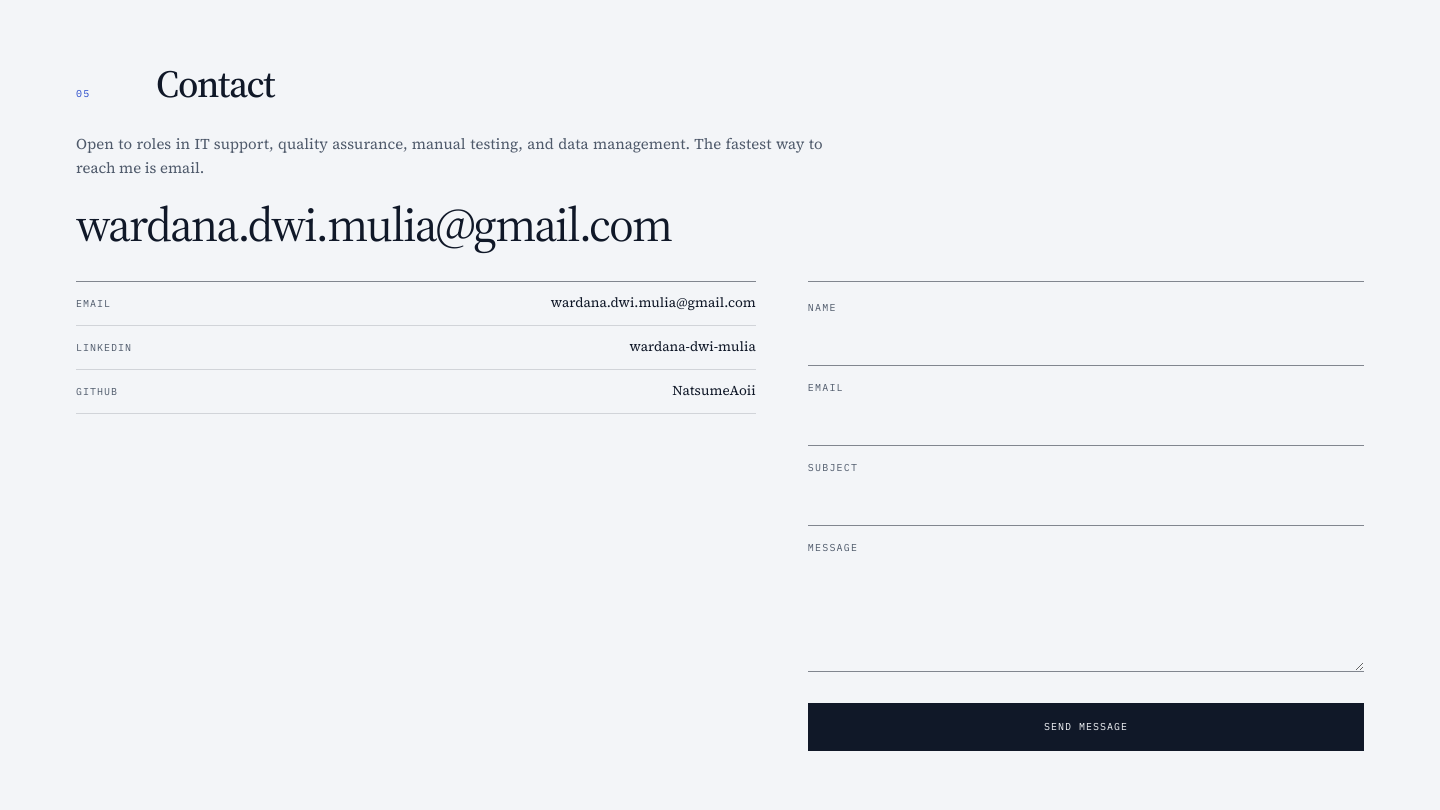
Test case: contact form › sends the draft through a mailto link on valid submit
Type "Test User" into the field labelled "Name" at (1086, 344), box [808,322,1364,366]
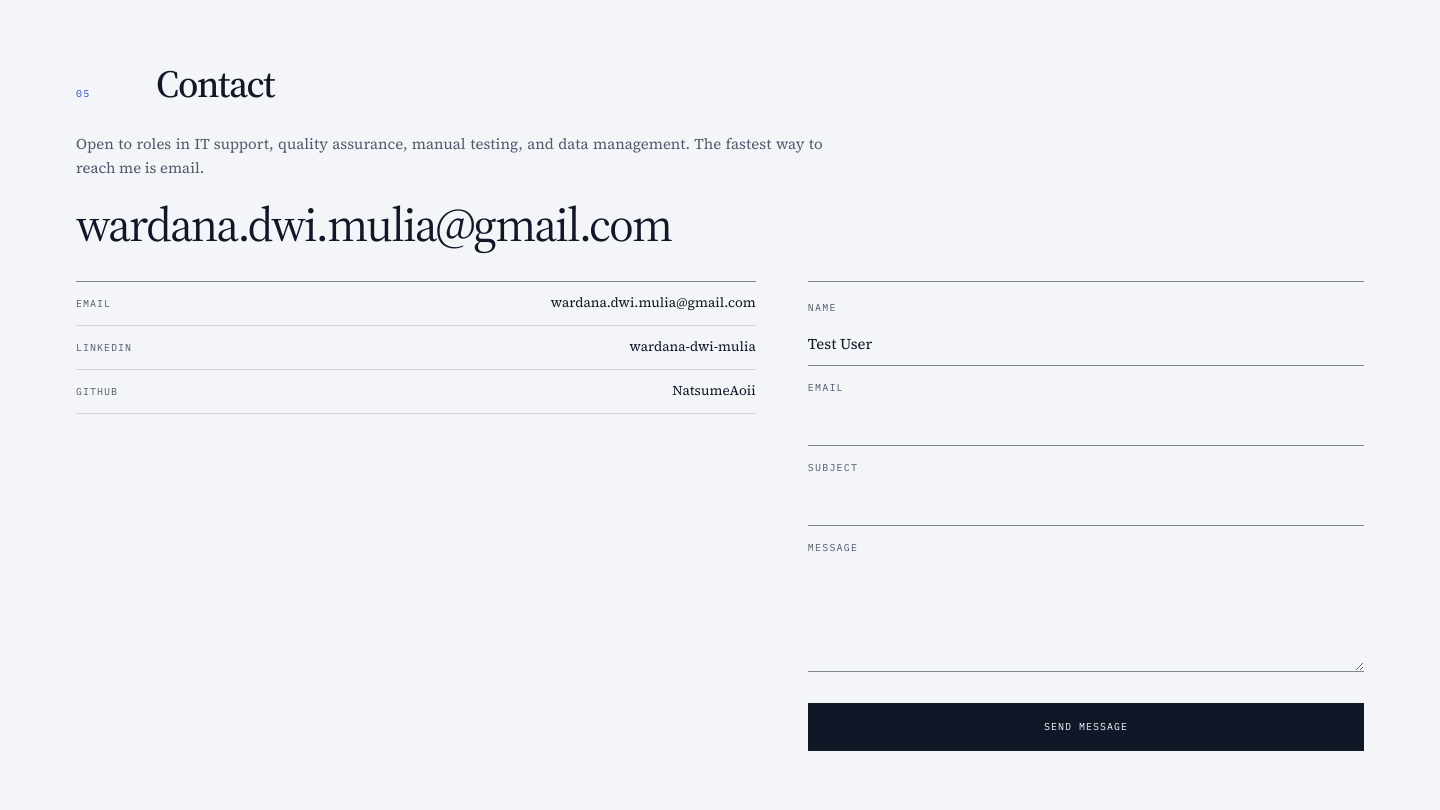
Type "test@example.com" into the field labelled "Email" at (1086, 424), box [808,402,1364,446]
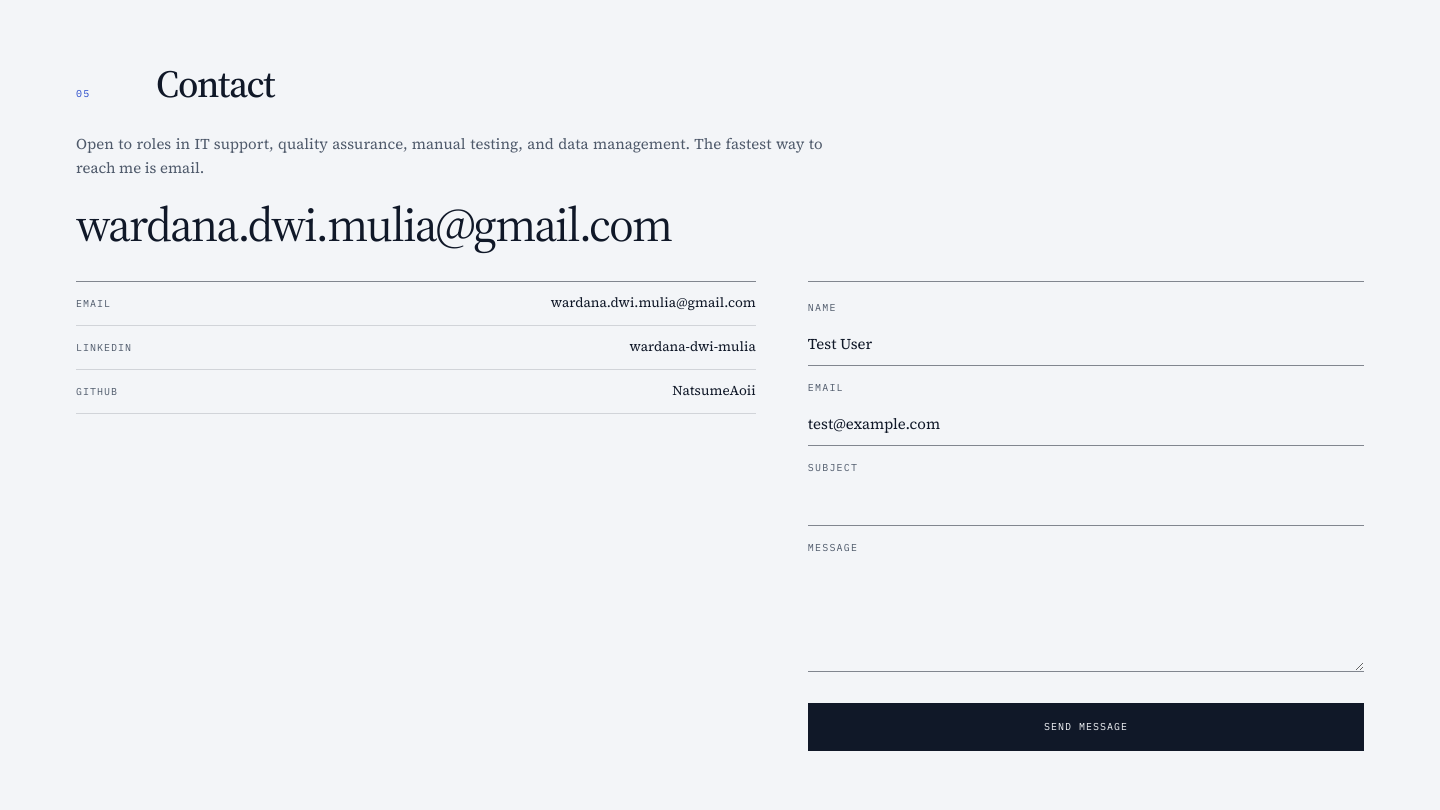
Type "Hello" into the field labelled "Subject" at (1086, 504), box [808,482,1364,526]
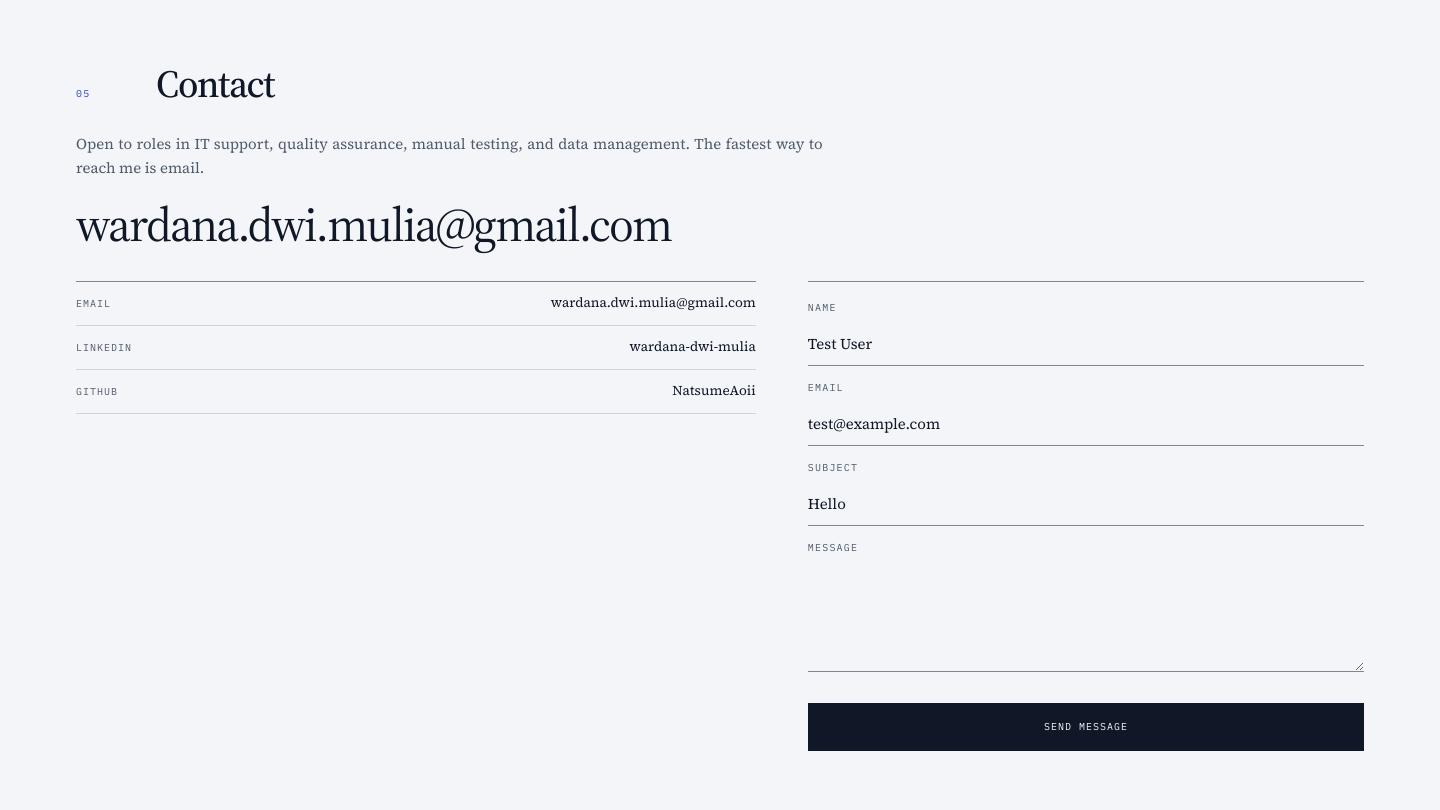
Type "This is a test message with enough length." into the text box labelled "Message" at (1086, 617), box [808,562,1364,672]
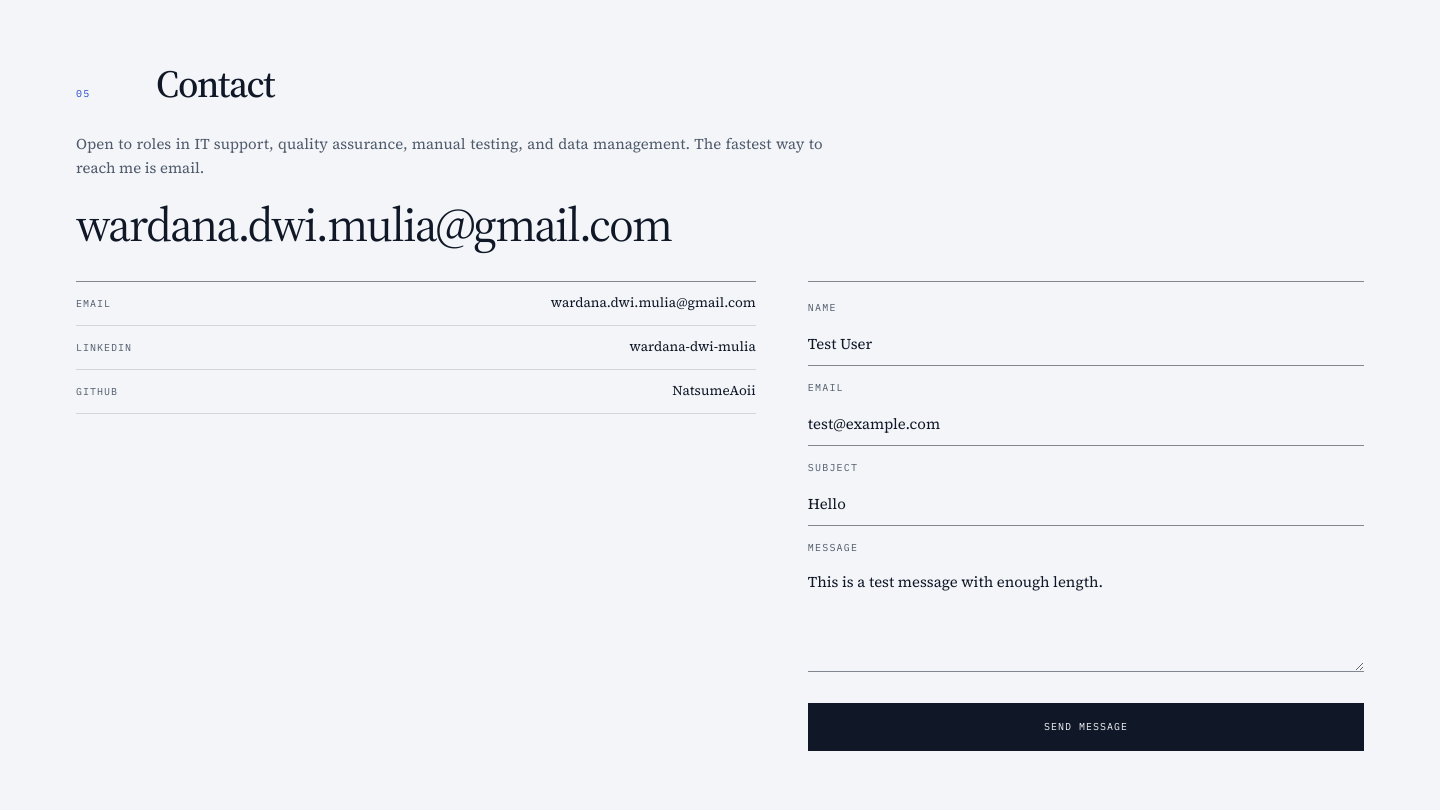
Click the button "Send message" at (1086, 726), box [808,702,1364,750]
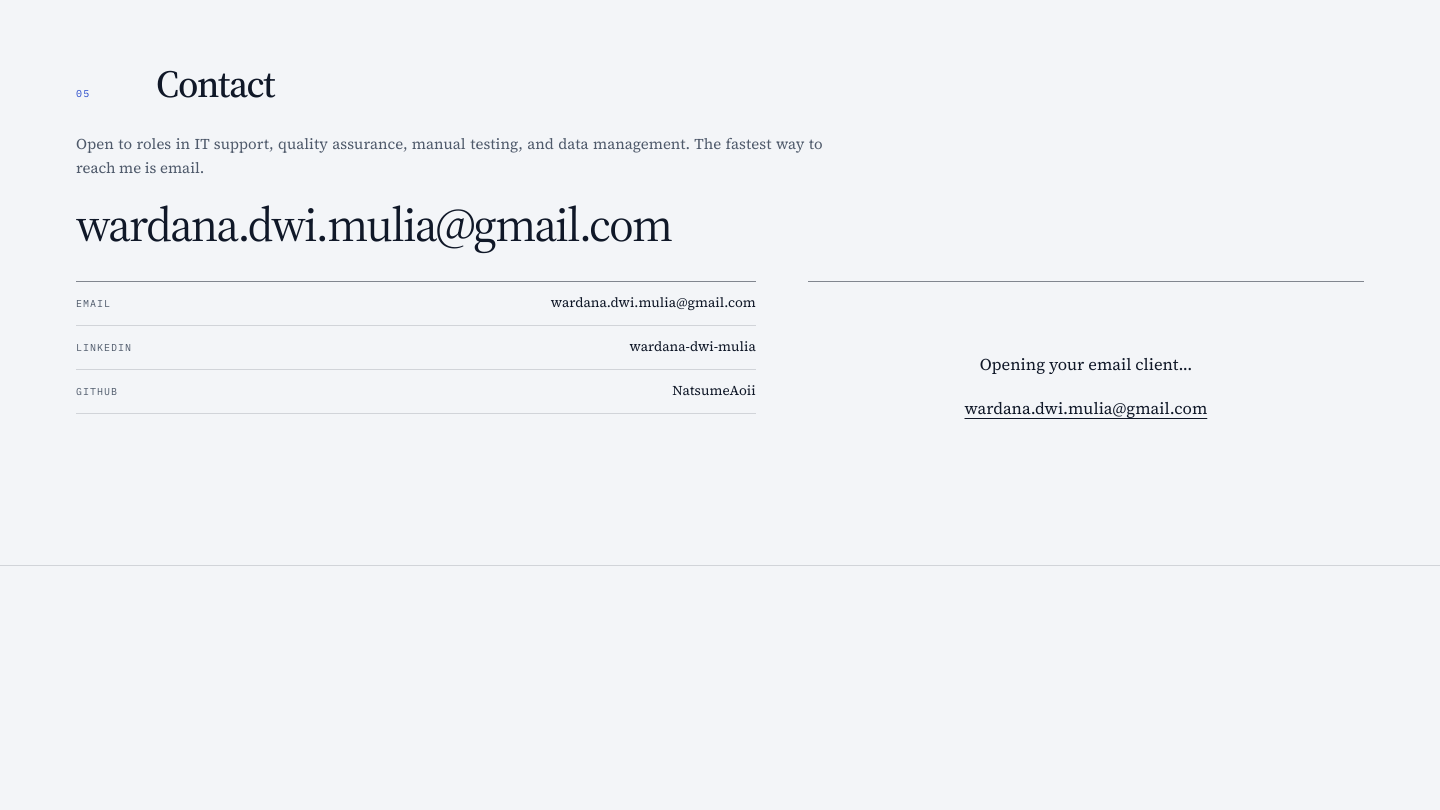
Now the text "Opening your email client..." is shown, box [964,352,1207,379]
